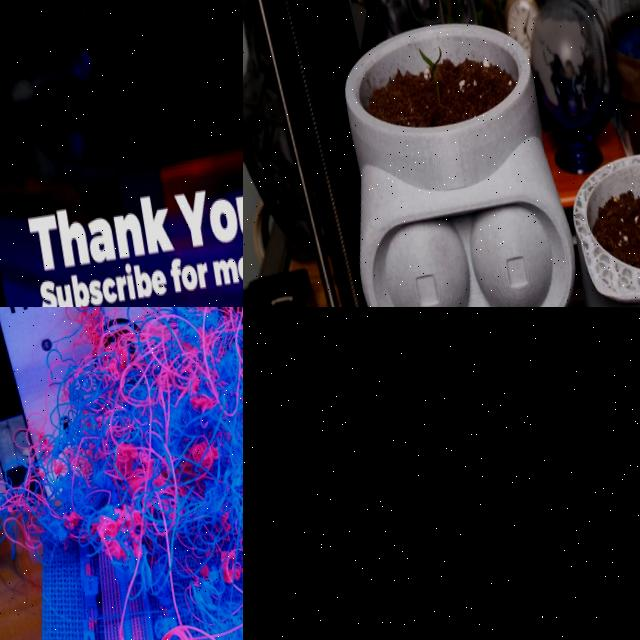spaghetti: (19, 307, 243, 640)
